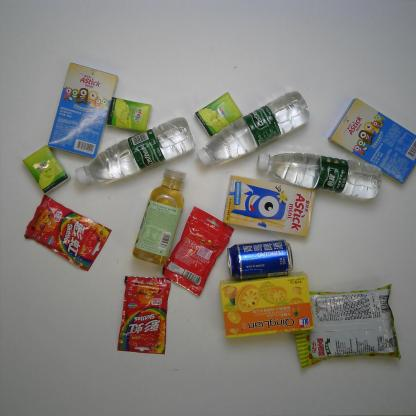Alcohol: (226, 239, 294, 280)
Candy: (22, 193, 113, 272), (162, 205, 235, 298), (116, 275, 172, 356)
Dessert: (326, 97, 416, 186), (47, 61, 120, 160), (218, 270, 315, 339), (222, 174, 318, 237)
Drink: (195, 90, 311, 167), (73, 115, 197, 186), (255, 151, 383, 200), (132, 167, 188, 266)
Puffed Food: (294, 283, 402, 369)
Tissue: (22, 144, 72, 196), (194, 92, 244, 138), (106, 96, 154, 133)
